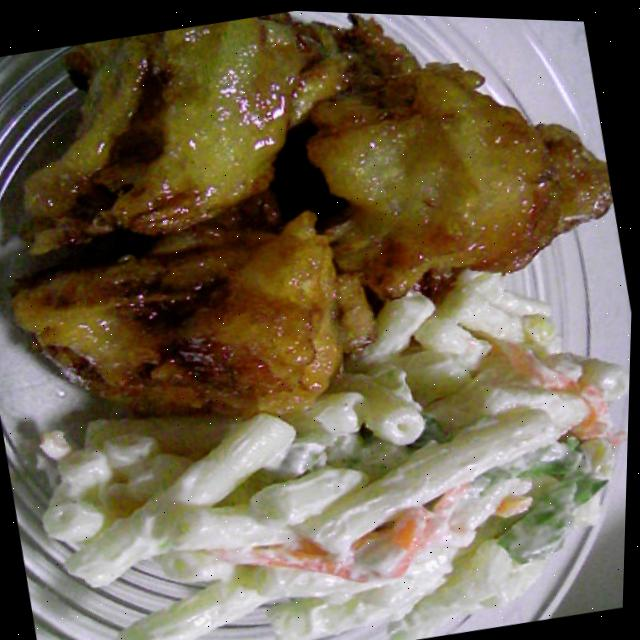蔬菜料理: (0, 238, 634, 640)
